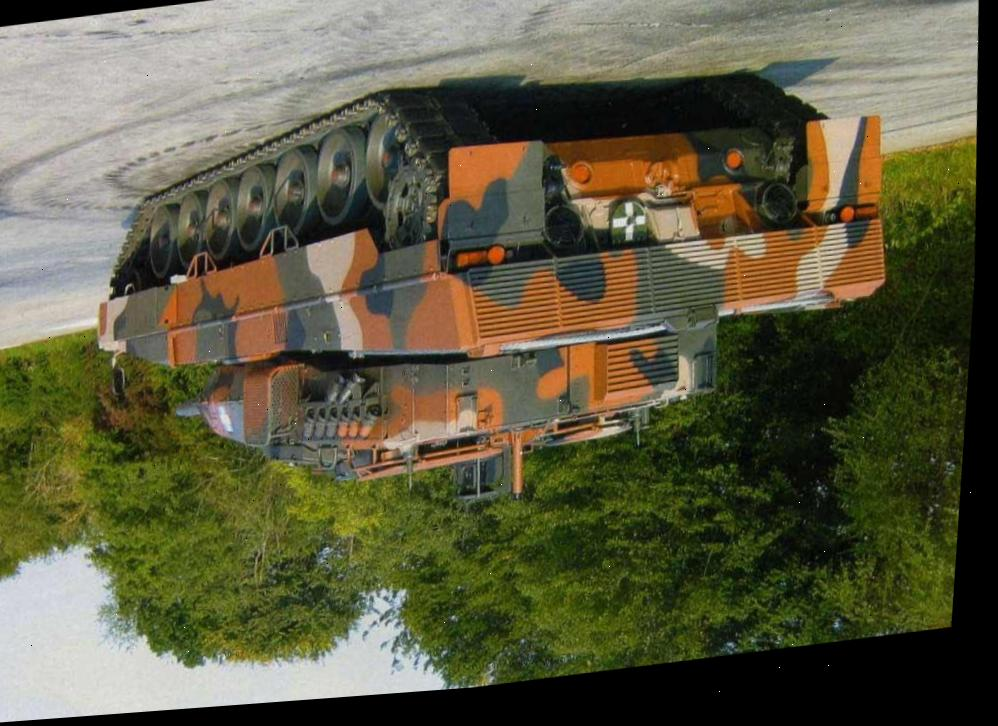tank: (64, 21, 913, 559)
